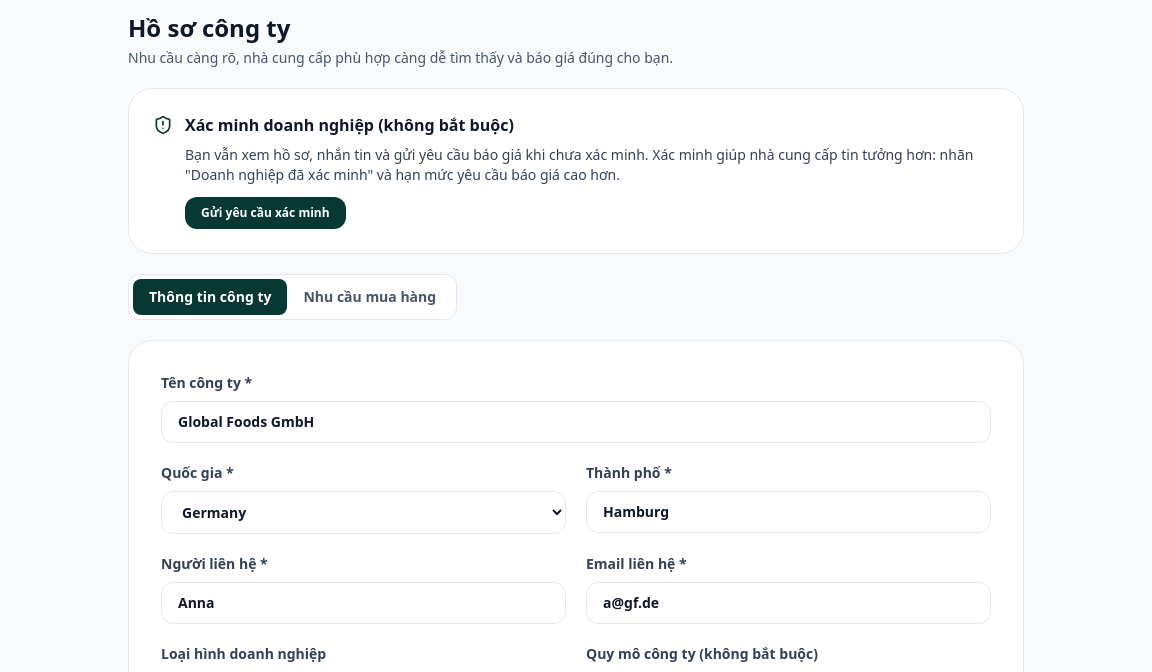
Xác minh buyer tùy chọn (U6) › chưa xác minh: nói rõ không bắt buộc, gửi yêu cầu thì chuyển sang chờ duyệt
The image size is (1152, 672).
Expected: the element "Xác minh doanh nghiệp" shows "Xác minh doanh nghiệp (không bắt buộc)", left=185, top=114, right=514, bottom=136
Expected: the element "Xác minh doanh nghiệp" shows "Bạn vẫn xem hồ sơ, nhắn tin và gửi yêu cầu báo giá khi chưa xác minh", left=185, top=145, right=973, bottom=184
Click the button "Gửi yêu cầu xác minh" at (265,213), box left=185, top=197, right=346, bottom=229
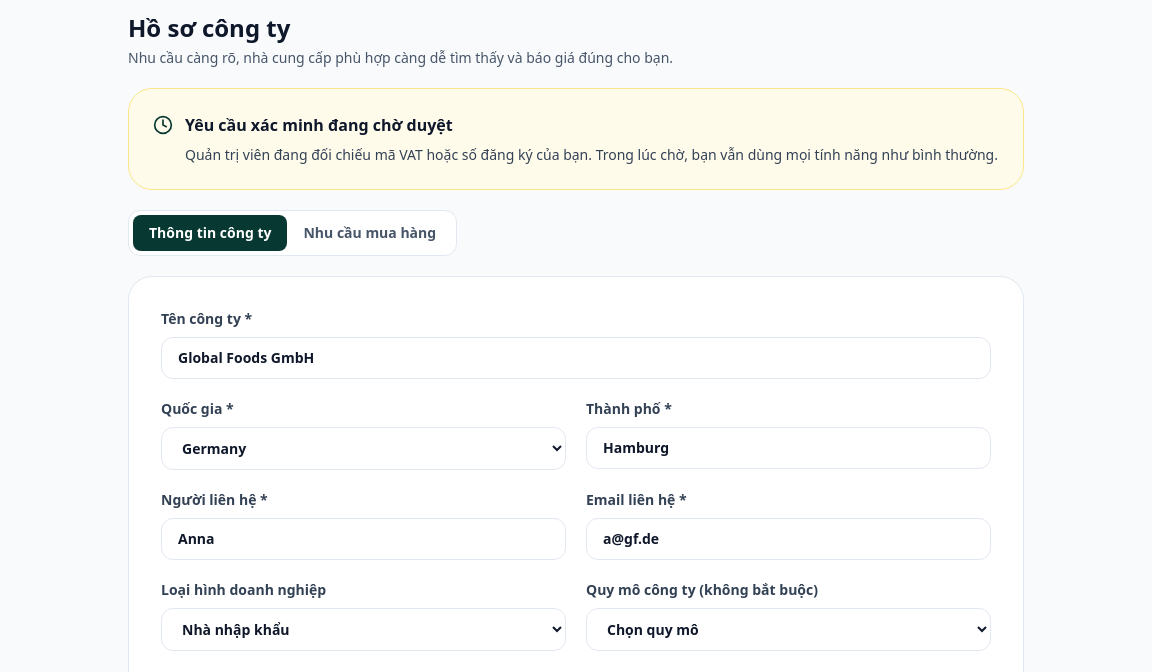
Expected: the heading "Yêu cầu xác minh đang chờ duyệt" is shown, left=185, top=114, right=453, bottom=136
